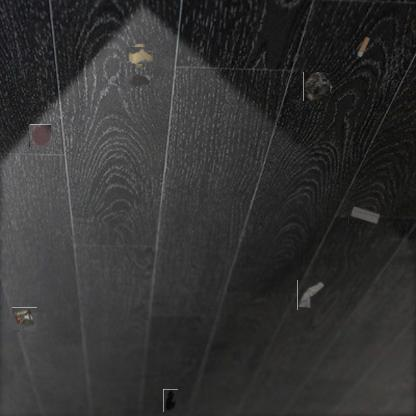dirty: (303, 72, 331, 101), (297, 280, 324, 310), (348, 204, 380, 224), (12, 307, 37, 331), (130, 44, 152, 66), (354, 35, 372, 59), (163, 389, 178, 412)
liquid: (29, 124, 51, 147), (129, 74, 151, 88)
